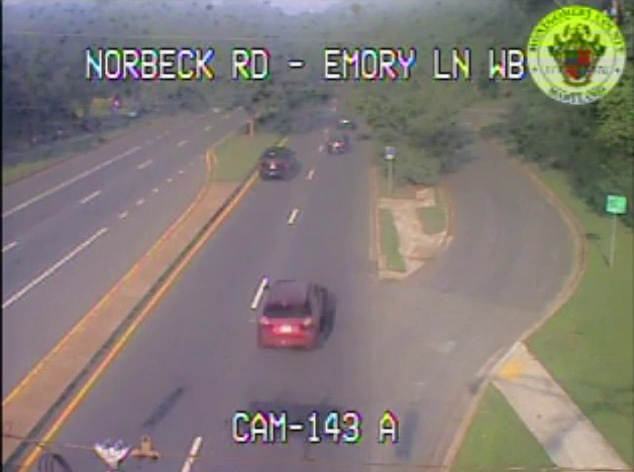car: (259, 282, 320, 348), (260, 147, 293, 177)
